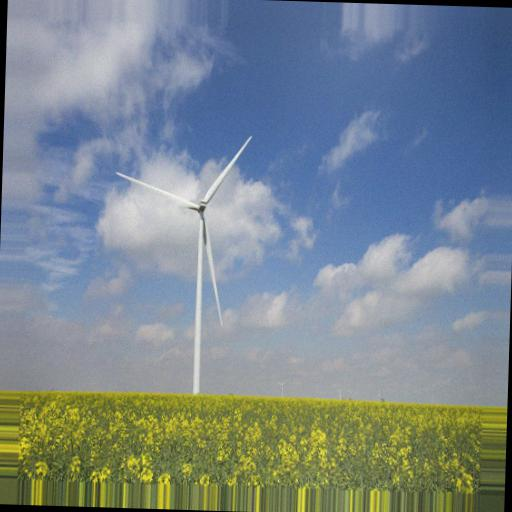wind turbine: (113, 132, 255, 393)
